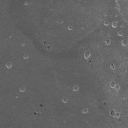corrosion: (108, 79, 121, 92), (82, 47, 94, 60), (109, 108, 121, 119), (4, 60, 14, 70), (108, 61, 117, 71), (71, 84, 80, 93), (66, 24, 75, 33), (103, 38, 112, 47), (18, 85, 27, 93), (80, 107, 89, 115), (22, 52, 30, 60), (103, 19, 110, 28), (61, 97, 68, 105), (112, 21, 118, 30), (38, 103, 44, 107)
